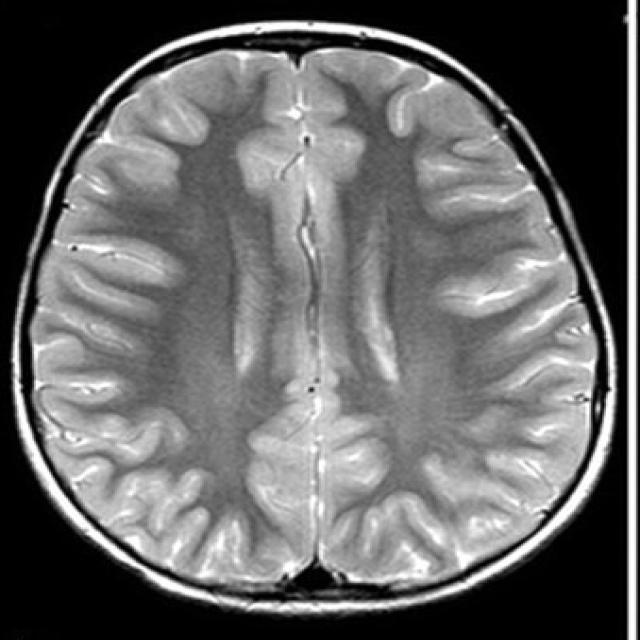No_Tumor: (15, 22, 614, 610)
